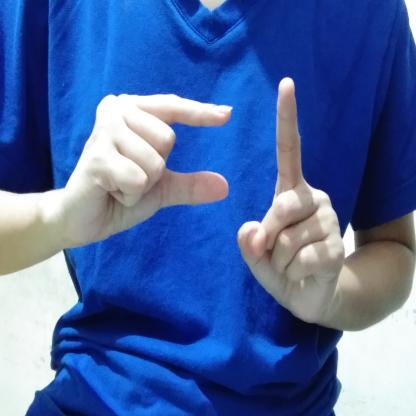daughter: (60, 71, 346, 337)
